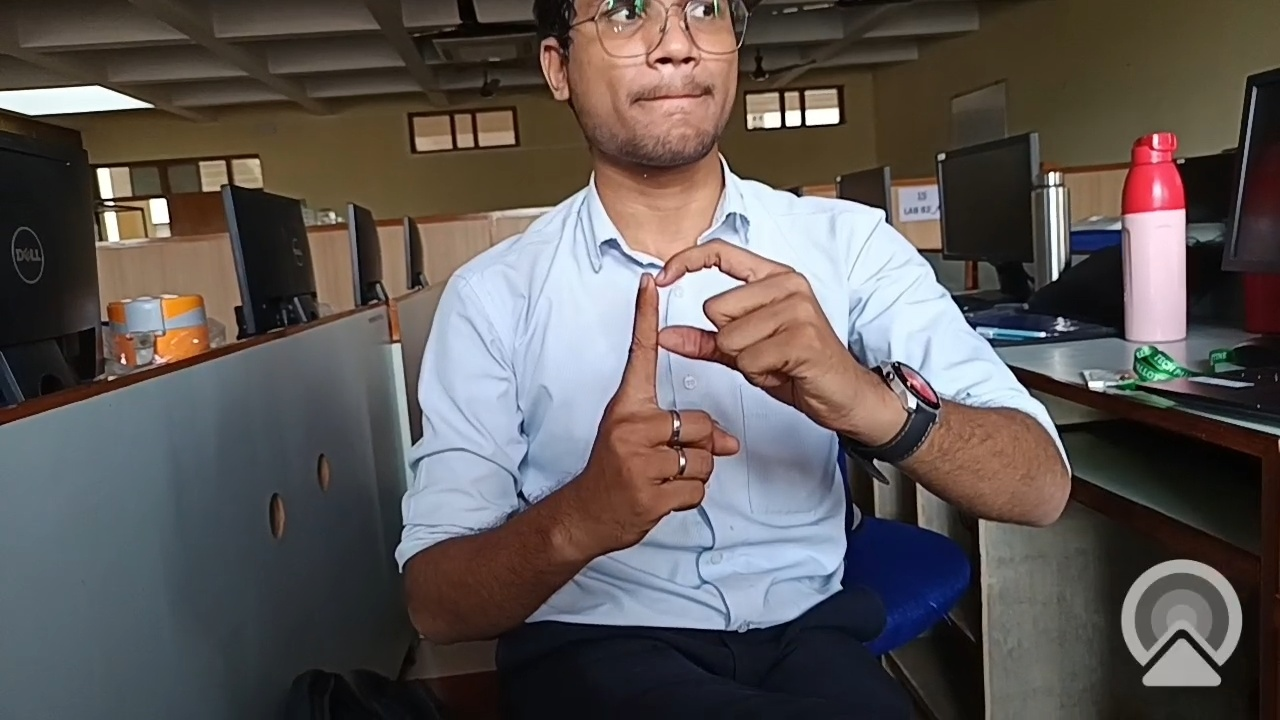P: (575, 221, 915, 537)
